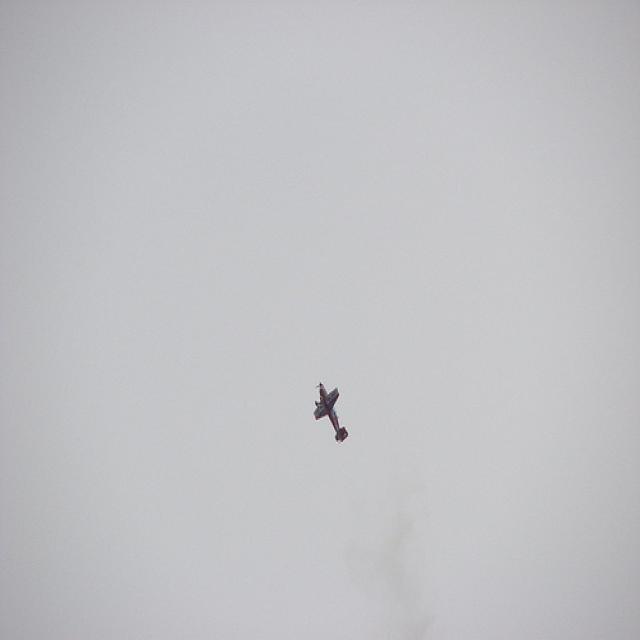aeroplane: (312, 383, 352, 445)
